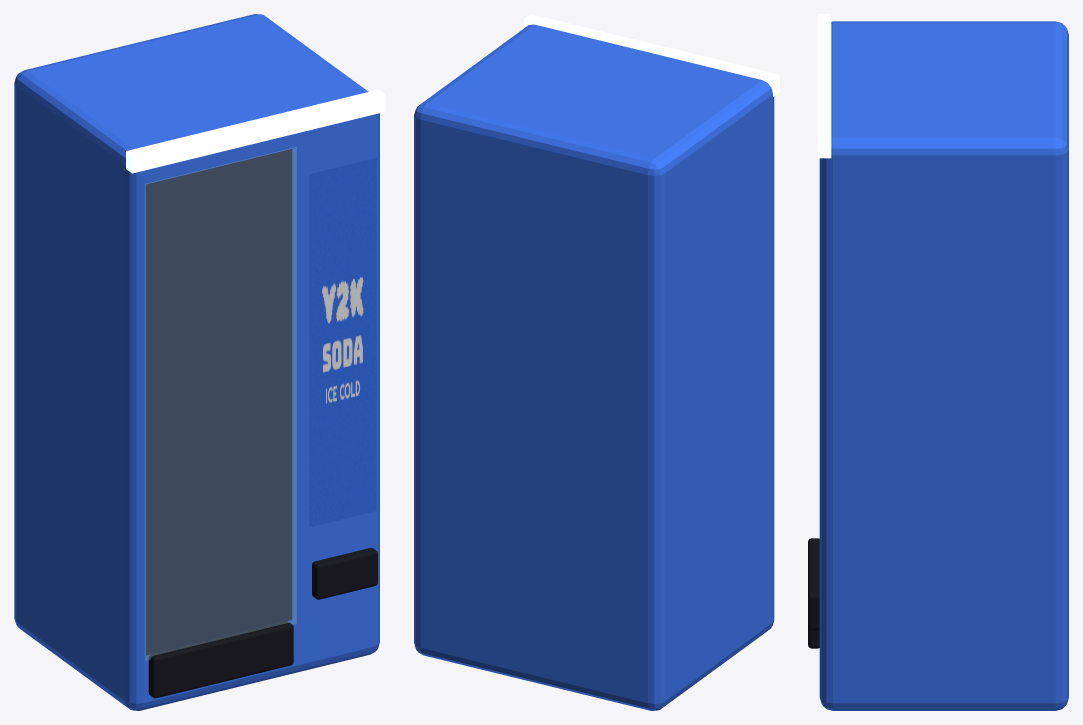
File: Tech_Vending.fbx
3 renders of one model, left to right at view 1: azimuth 30°, elevation 25°; view 2: azimuth 150°, elevation 25°; view 3: azimuth 270°, elevation 25°, orthographic. The views are drawn at different scales.
Parts seen in each view (by area): view 1: Tech_Vending; view 2: Tech_Vending; view 3: Tech_Vending.
Boxes of the visible parts, bbox=[...] form: Tech_Vending: bbox=[14, 14, 385, 710]; Tech_Vending: bbox=[414, 14, 779, 710]; Tech_Vending: bbox=[808, 14, 1068, 710].
Size of the model in its own units: 0.9 by 1.91 by 0.785.
10 materials, 1 textured.
